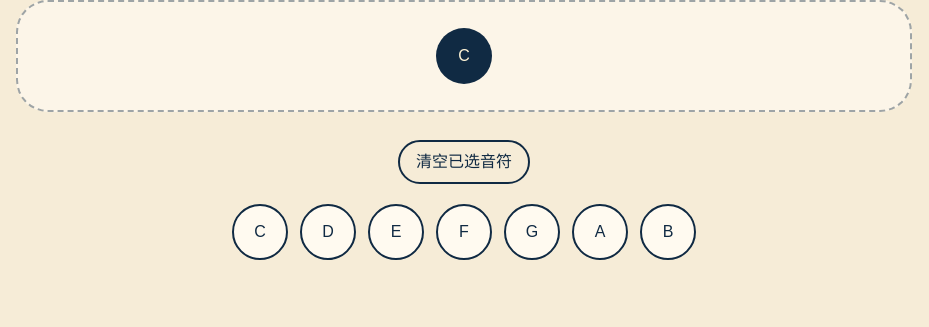
Test case: adds note names and reports the semitone distance
The width and height of the screenshot is (929, 327).
Click the button named "添加 D".
click(328, 232)  # box [300, 204, 356, 260]
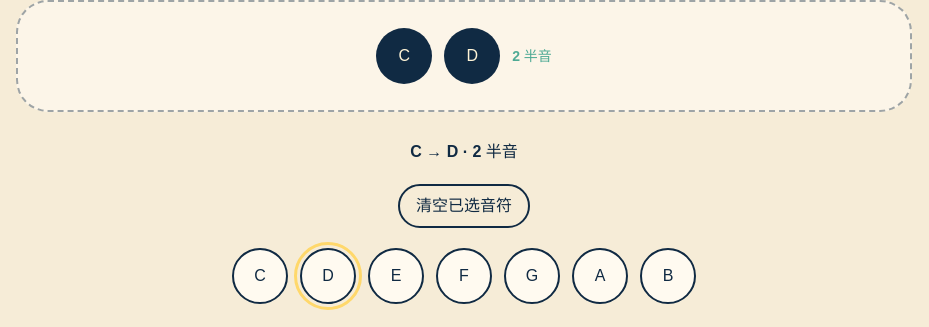
expect the text "C → D · 2 半音" is shown: met, box [410, 143, 518, 160]
